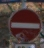No entry: (6, 6, 39, 43)
